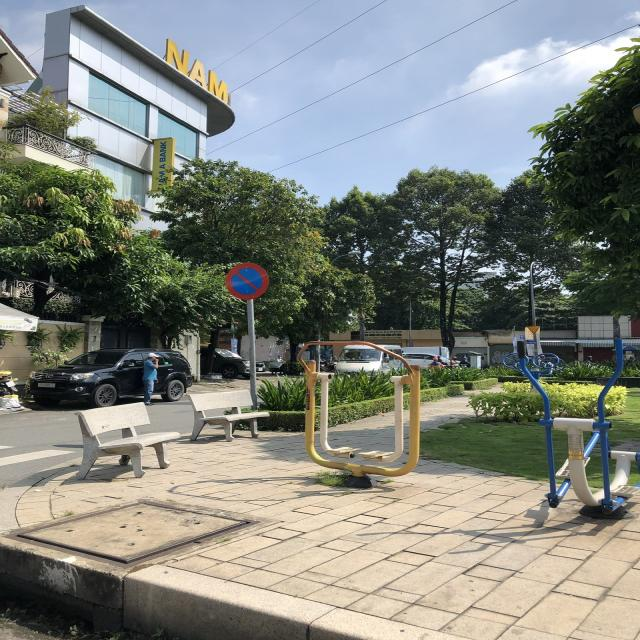Bien bao cam do xe: (219, 257, 271, 304)
